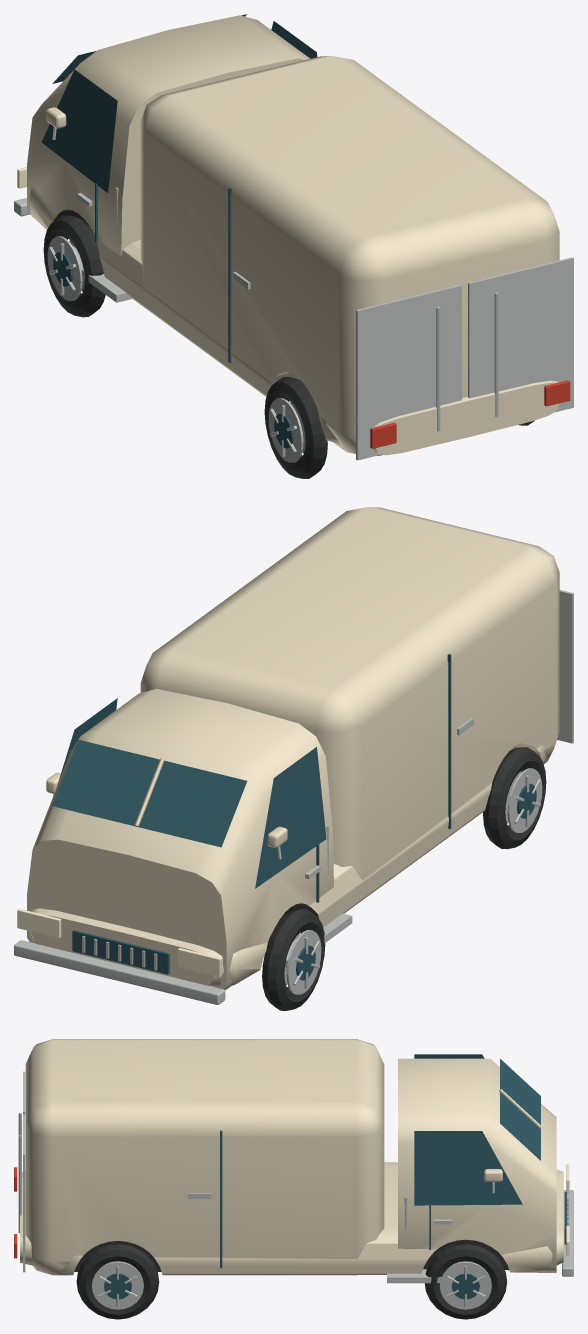
The model's file is van_detail.glb.
The picture shows the model from 3 angles, top to bottom: view 1: azimuth 30°, elevation 25°; view 2: azimuth 150°, elevation 25°; view 3: azimuth 270°, elevation 25°; orthographic projection. The views are drawn at different scales.
Visible parts, largest first — view 1: VanModel traffic_cream, VanModel traffic_metal, VanModel traffic_glass, Rounded road tire, Rounded road tire.001, Spin traffic_metal, Spin.001 traffic_metal, VanModel traffic_red; view 2: VanModel traffic_cream, VanModel traffic_glass, VanModel traffic_metal, Rounded road tire.001, Rounded road tire, VanModel traffic_light, Spin traffic_metal, Spin.001 traffic_metal; view 3: VanModel traffic_cream, VanModel traffic_glass, Rounded road tire.002, Rounded road tire.003, VanModel traffic_metal, Spin.003 traffic_metal, Spin.002 traffic_metal, Spin.003 traffic_glass, Spin.002 traffic_glass.
Boxes of the visible parts, x1=… form: VanModel traffic_cream: x1=27, y1=15, x2=559, y2=455; VanModel traffic_metal: x1=14, y1=127, x2=573, y2=460; VanModel traffic_glass: x1=41, y1=14, x2=317, y2=362; Rounded road tire: x1=264, y1=377, x2=327, y2=478; Rounded road tire.001: x1=43, y1=215, x2=105, y2=317; Spin traffic_metal: x1=268, y1=398, x2=305, y2=462; Spin.001 traffic_metal: x1=47, y1=236, x2=84, y2=300; VanModel traffic_red: x1=370, y1=380, x2=570, y2=448; VanModel traffic_cream: x1=27, y1=507, x2=559, y2=990; VanModel traffic_glass: x1=52, y1=654, x2=451, y2=974; VanModel traffic_metal: x1=14, y1=589, x2=573, y2=1004; Rounded road tire.001: x1=262, y1=909, x2=325, y2=1010; Rounded road tire: x1=483, y1=747, x2=546, y2=849; VanModel traffic_light: x1=17, y1=908, x2=221, y2=977; Spin traffic_metal: x1=505, y1=768, x2=542, y2=832; Spin.001 traffic_metal: x1=284, y1=930, x2=321, y2=994; VanModel traffic_cream: x1=20, y1=1039, x2=563, y2=1275; VanModel traffic_glass: x1=220, y1=1054, x2=566, y2=1268; Rounded road tire.002: x1=76, y1=1244, x2=159, y2=1319; Rounded road tire.003: x1=424, y1=1244, x2=507, y2=1319; VanModel traffic_metal: x1=18, y1=1071, x2=573, y2=1283; Spin.003 traffic_metal: x1=439, y1=1261, x2=491, y2=1309; Spin.002 traffic_metal: x1=92, y1=1261, x2=143, y2=1309; Spin.003 traffic_glass: x1=451, y1=1273, x2=479, y2=1299; Spin.002 traffic_glass: x1=104, y1=1273, x2=131, y2=1299.
Size of the model in its own units: 2.06 by 2.09 by 5.14.
